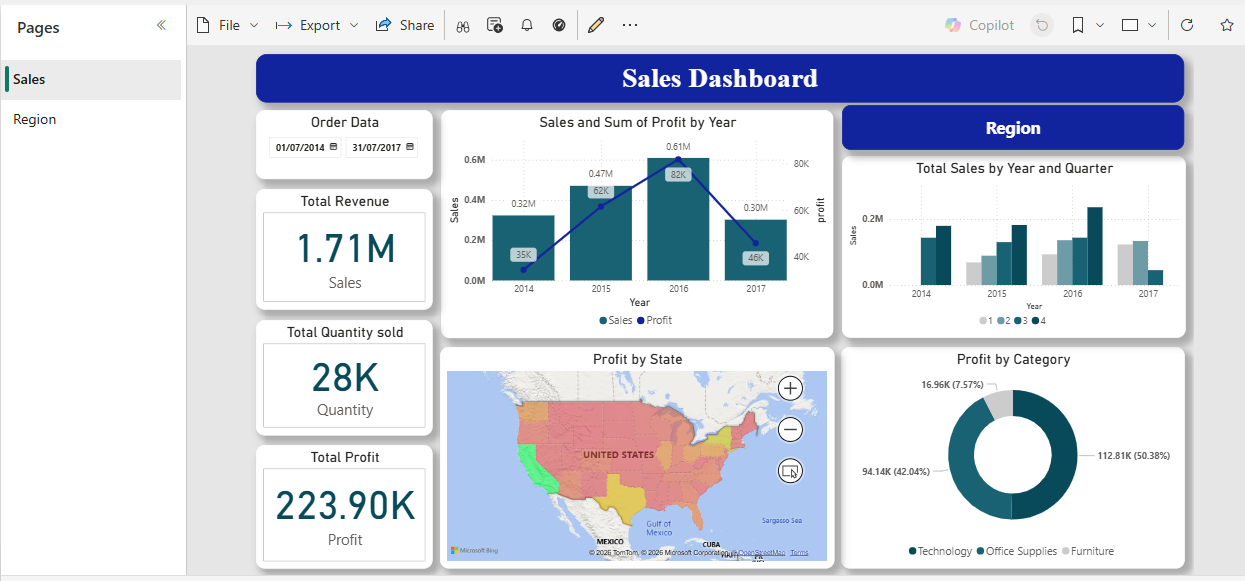

The page's visual inventory and layout, read from the dashboard file:
{"tool":"powerbi","page":{"name":"Sales","canvas":[1280,720],"ordinal":0},"visuals":[{"type":"textbox","box":[7.3,11.7,1261.5,65.9],"z":0},{"type":"lineClusteredColumnComboChart","title":"Sales and Sum of Profit by Year","fields":{"Category":["Orders.Year"],"Y":["Sum(Orders.Sales)"],"Y2":["Sum(Orders.Profit)"]},"box":[257.6,87.8,532.7,310.2],"z":1000},{"type":"donutChart","title":"Profit by Category","fields":{"Category":["Orders.Category"],"Y":["Sum(Orders.Profit)"]},"box":[802,409.8,466.8,301.5],"z":2000},{"type":"slicer","title":"Order Data","fields":{"Values":["Orders.Order Date"]},"box":[7.3,87.8,240,93.7],"z":3000},{"type":"cardVisual","title":"Total Revenue","fields":{"Data":["Sum(Orders.Sales)"]},"box":[7.3,196.1,240,163.9],"z":4000},{"type":"cardVisual","title":"Total Quantity sold","fields":{"Data":["Sum(Orders.Quantity)"]},"box":[7.3,373.2,240,156.6],"z":5000},{"type":"cardVisual","title":"Total Profit","fields":{"Data":["Sum(Orders.Profit)"]},"box":[7.3,542.9,240,168.3],"z":6000},{"type":"clusteredColumnChart","title":"Total Sales by Year and Quarter","fields":{"Category":["Orders.Year"],"Y":["Sum(Orders.Sales)"],"Series":["Orders.Quarter"]},"box":[803.4,150.7,466.8,247.3],"z":7000},{"type":"filledMap","fields":{"Category":["Orders.State"]},"box":[256.1,409.8,535.6,301.5],"z":8000},{"type":"actionButton","box":[803.4,82,465.4,61.5],"z":9000}]}

Visuals, with their boxes on the page's 1280x720 design canvas (x1, y1, x2, y2). These are canvas units, not pixel positions in the 1245x581 screenshot, which may show the page scaled, cropped or inside an application window:
textbox: <region>7, 12, 1269, 78</region>
"Sales and Sum of Profit by Year" lineClusteredColumnComboChart: <region>258, 88, 790, 398</region>
"Profit by Category" donutChart: <region>802, 410, 1269, 711</region>
"Order Data" slicer: <region>7, 88, 247, 182</region>
"Total Revenue" cardVisual: <region>7, 196, 247, 360</region>
"Total Quantity sold" cardVisual: <region>7, 373, 247, 530</region>
"Total Profit" cardVisual: <region>7, 543, 247, 711</region>
"Total Sales by Year and Quarter" clusteredColumnChart: <region>803, 151, 1270, 398</region>
filledMap - Orders.State: <region>256, 410, 792, 711</region>
actionButton: <region>803, 82, 1269, 144</region>
